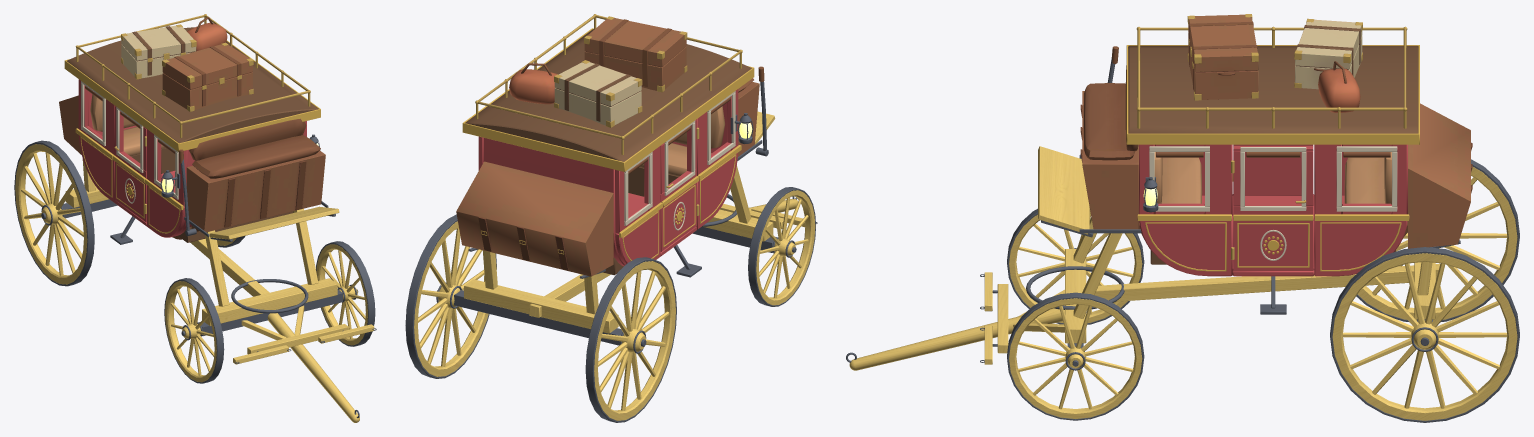
The model's file is stagecoach.glb.
3 renders of one model, left to right at view 1: azimuth 30°, elevation 25°; view 2: azimuth 150°, elevation 25°; view 3: azimuth 270°, elevation 25°, orthographic. The views are drawn at different scales.
Visible parts, largest first — view 1: stagecoach_body, stagecoach_coachwork, stagecoach_gear, stagecoach_wheel_rr, stagecoach_wheel_fr, stagecoach_wheel_fl, stagecoach_door_right, stagecoach_lamps; view 2: stagecoach_body, stagecoach_coachwork, stagecoach_gear, stagecoach_wheel_rr, stagecoach_wheel_rl, stagecoach_wheel_fr, stagecoach_door_right, stagecoach_lamps; view 3: stagecoach_coachwork, stagecoach_body, stagecoach_gear, stagecoach_wheel_rl, stagecoach_door_left, stagecoach_wheel_fl, stagecoach_wheel_rr, stagecoach_wheel_fr, stagecoach_door_right.
Part boxes in pixels (left/top/right/bottom): stagecoach_body: left=59, top=14, right=325, bottom=239; stagecoach_coachwork: left=64, top=27, right=320, bottom=242; stagecoach_gear: left=62, top=149, right=376, bottom=422; stagecoach_wheel_rr: left=14, top=140, right=94, bottom=286; stagecoach_wheel_fr: left=164, top=278, right=224, bottom=383; stagecoach_wheel_fl: left=316, top=241, right=375, bottom=346; stagecoach_door_right: left=113, top=106, right=146, bottom=222; stagecoach_lamps: left=160, top=134, right=320, bottom=197; stagecoach_body: left=456, top=14, right=759, bottom=276; stagecoach_coachwork: left=462, top=28, right=754, bottom=275; stagecoach_gear: left=454, top=66, right=817, bottom=345; stagecoach_wheel_rr: left=585, top=257, right=676, bottom=422; stagecoach_wheel_rl: left=405, top=214, right=496, bottom=378; stagecoach_wheel_fr: left=748, top=187, right=815, bottom=306; stagecoach_door_right: left=660, top=119, right=699, bottom=251; stagecoach_lamps: left=730, top=113, right=753, bottom=143; stagecoach_coachwork: left=1126, top=45, right=1419, bottom=276; stagecoach_body: left=1080, top=14, right=1472, bottom=249; stagecoach_gear: left=846, top=46, right=1460, bottom=370; stagecoach_wheel_rl: left=1330, top=247, right=1519, bottom=422; stagecoach_door_left: left=1231, top=146, right=1313, bottom=270; stagecoach_wheel_fl: left=1007, top=292, right=1144, bottom=420; stagecoach_wheel_rr: left=1356, top=159, right=1519, bottom=322; stagecoach_wheel_fr: left=1007, top=208, right=1144, bottom=324; stagecoach_door_right: left=1232, top=144, right=1313, bottom=195.
Size of the model in its own units: 2.05 by 2.79 by 5.11.
11 materials, 2 textured.
